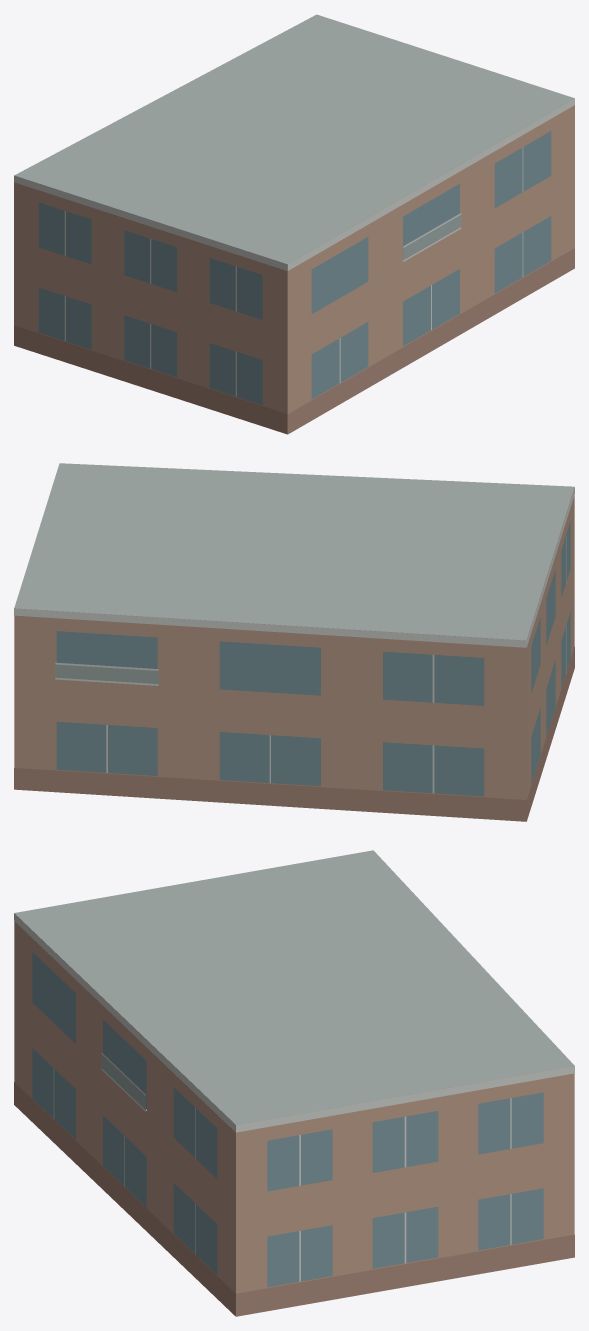
The model's file is survey-upis-32993294.glb.
The picture shows the model from 3 angles, top to bottom: view 1: azimuth 30°, elevation 25°; view 2: azimuth 150°, elevation 25°; view 3: azimuth 270°, elevation 25°; orthographic projection. The views are drawn at different scales.
Parts seen in each view (by area): view 1: survey-upis-32993294.tmp; view 2: survey-upis-32993294.tmp; view 3: survey-upis-32993294.tmp.
Part boxes in pixels (left/top/right/bottom): survey-upis-32993294.tmp: left=14, top=14, right=574, bottom=434; survey-upis-32993294.tmp: left=14, top=463, right=574, bottom=821; survey-upis-32993294.tmp: left=14, top=850, right=574, bottom=1316.
Bounding box in the file's own units: 18.76 × 6.1 × 16.18.
